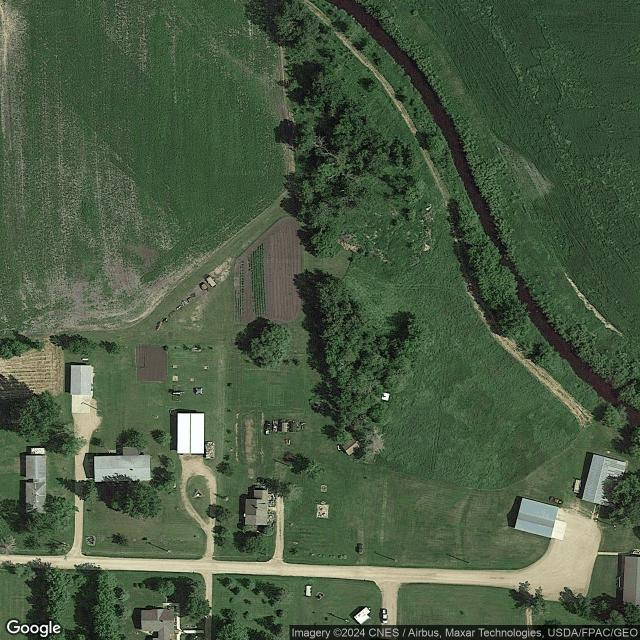Propane: (336, 445, 341, 452), (172, 392, 181, 395), (81, 358, 89, 361)
